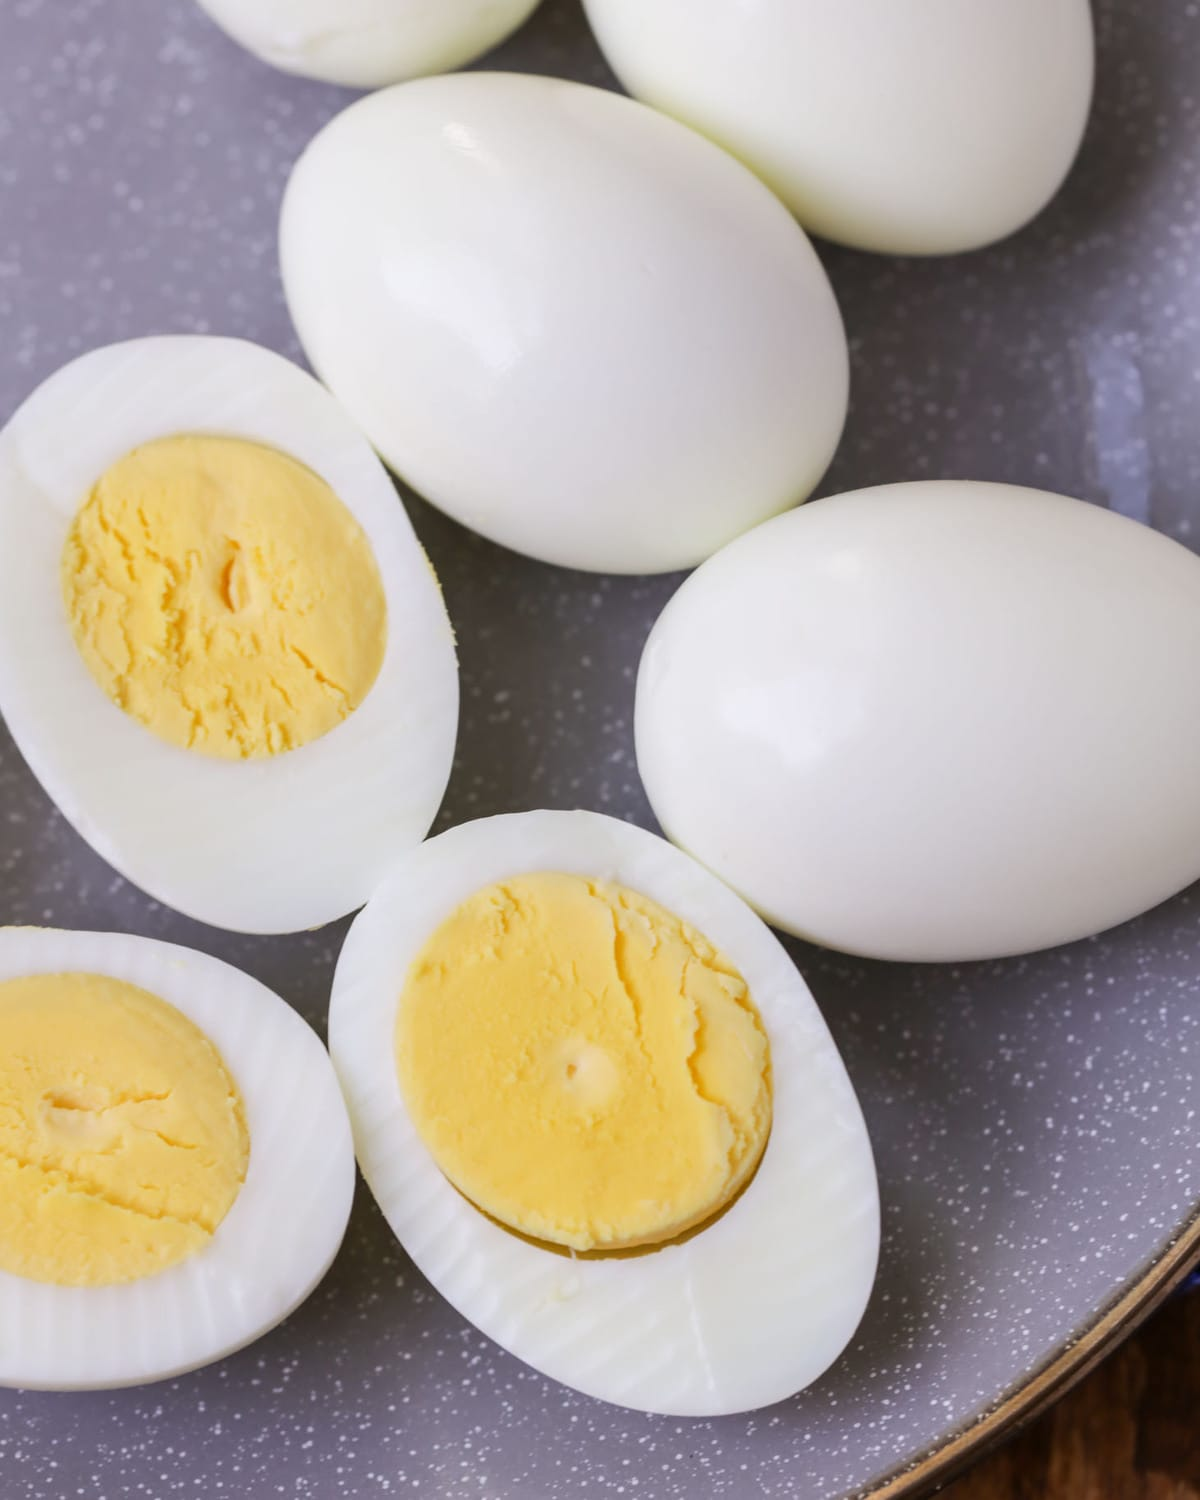egg: (9, 269, 540, 967), (344, 751, 876, 1449), (658, 331, 1188, 1029), (245, 56, 880, 580), (1, 901, 354, 1447), (580, 1, 1129, 251)
